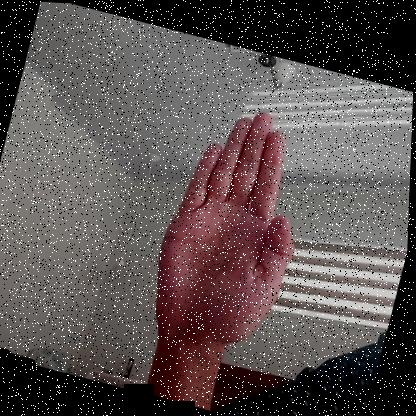B: (141, 90, 327, 364)
